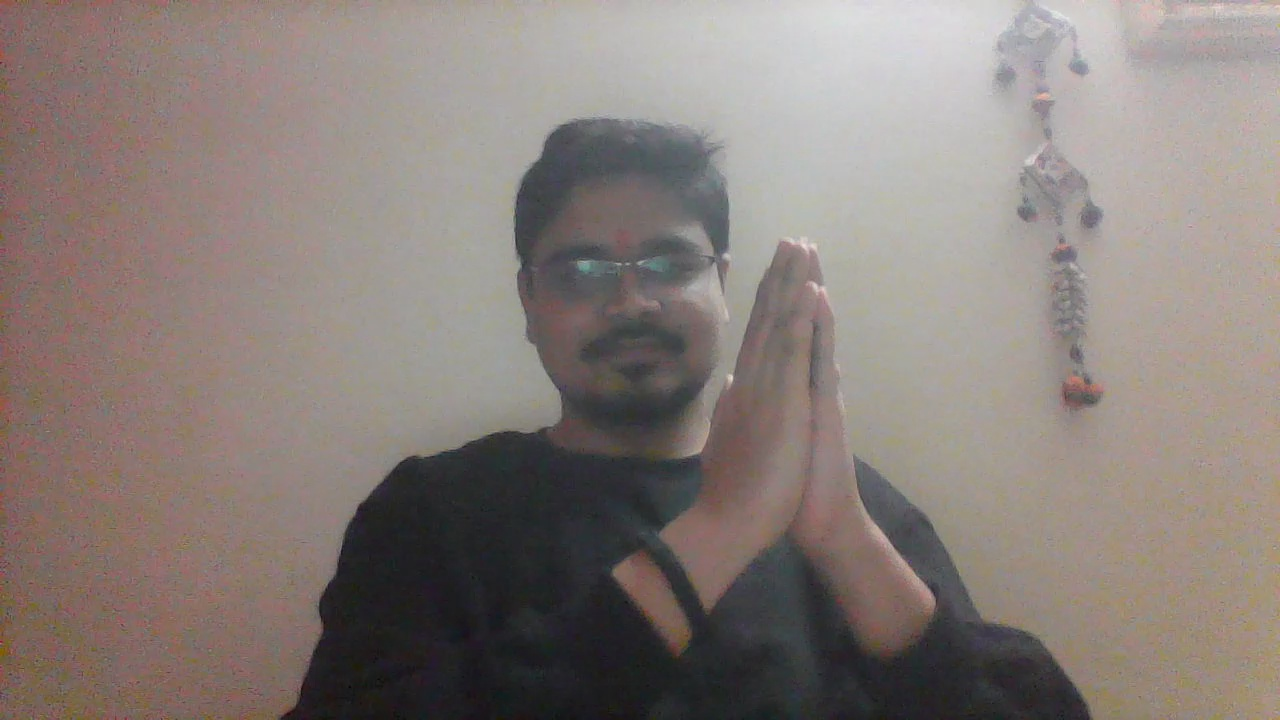Namaste: (689, 239, 884, 625)
